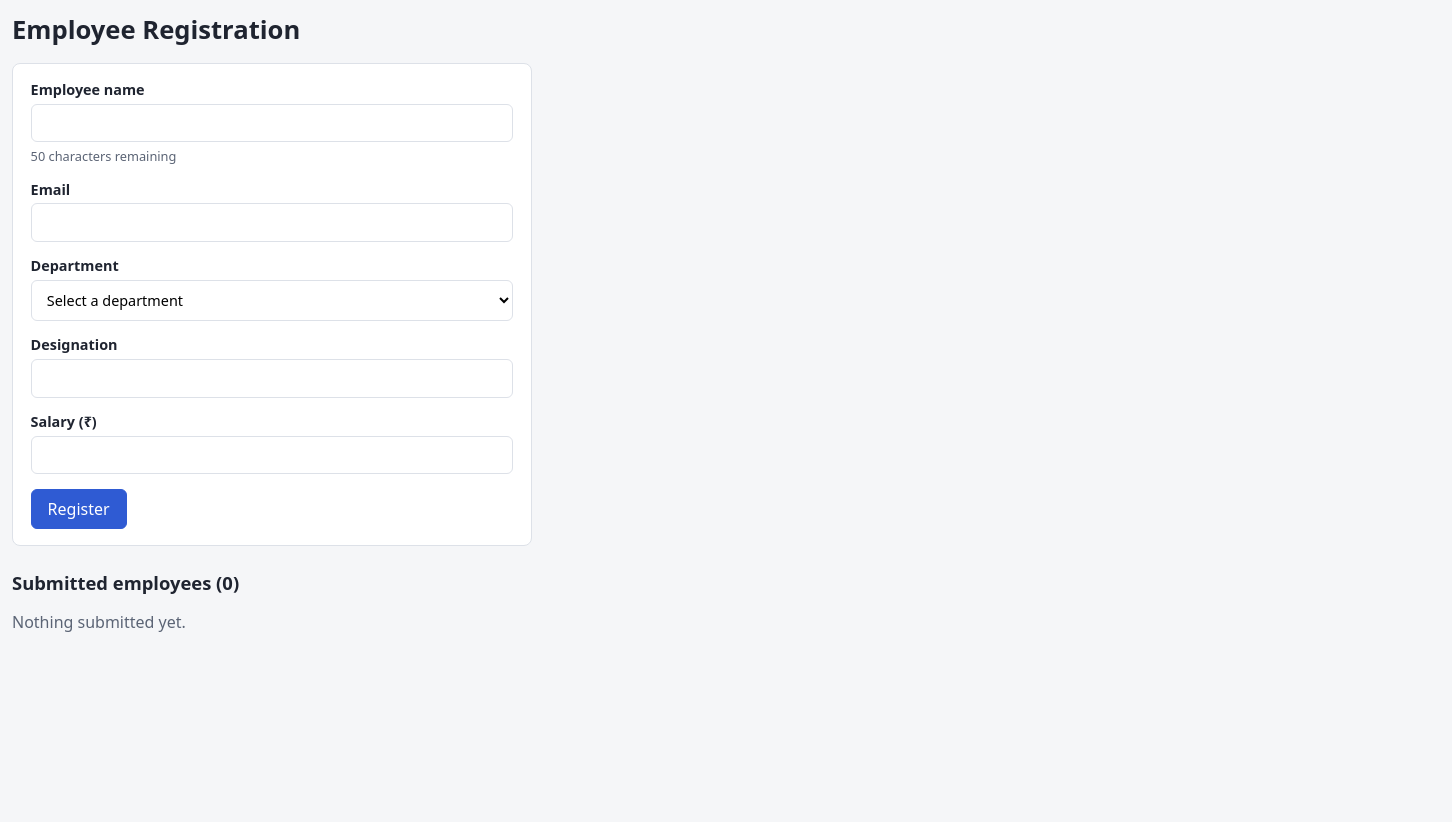
Test case: Employee Registration form › submits without reloading, shows the data below the form and clears the form
Type "Asha Verma" into the field labelled "Employee name" at (272, 123), box [31,104,513,142]
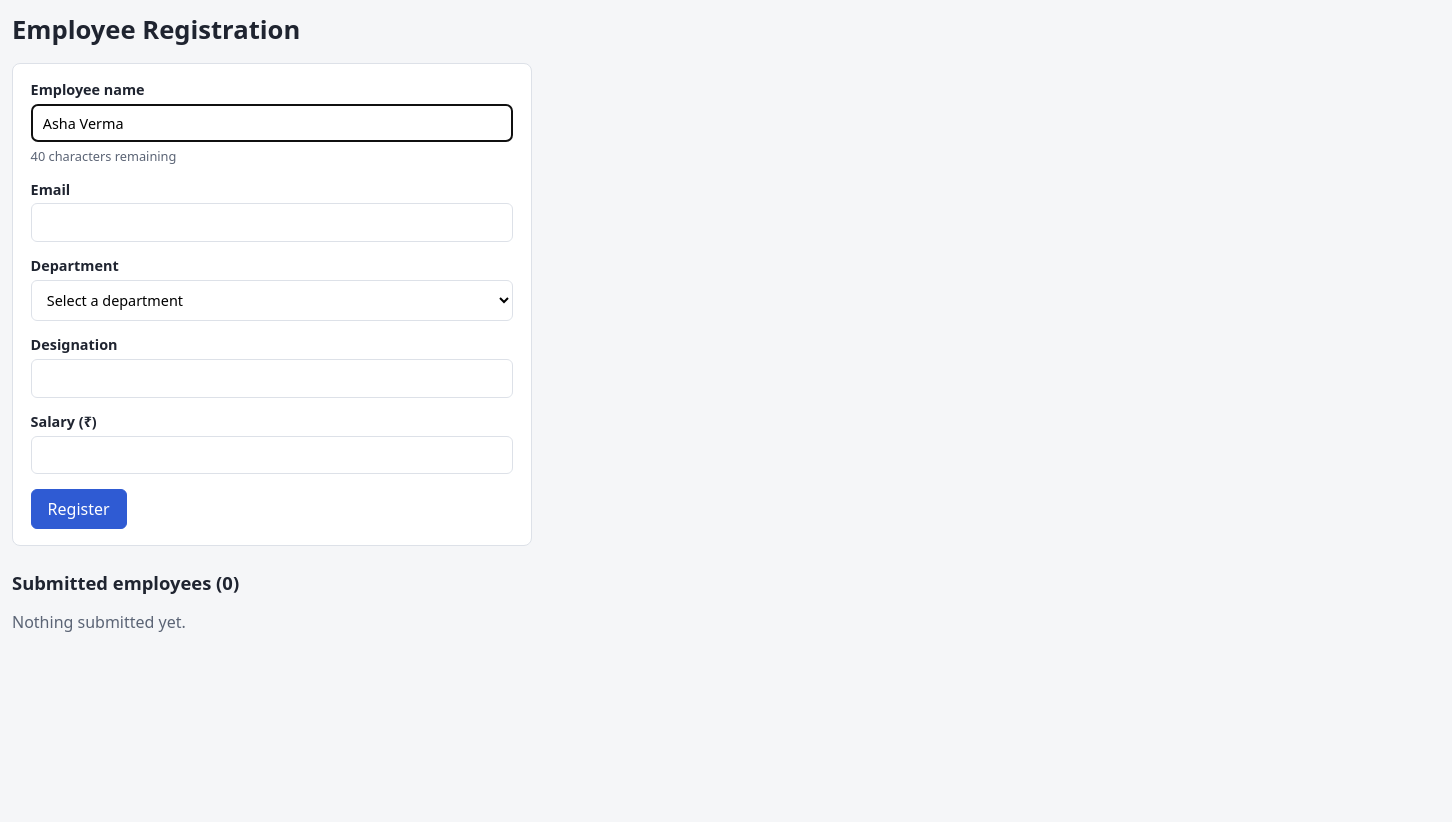
Type "asha@company.com" into the field labelled "Email" at (272, 223), box [31,203,513,242]
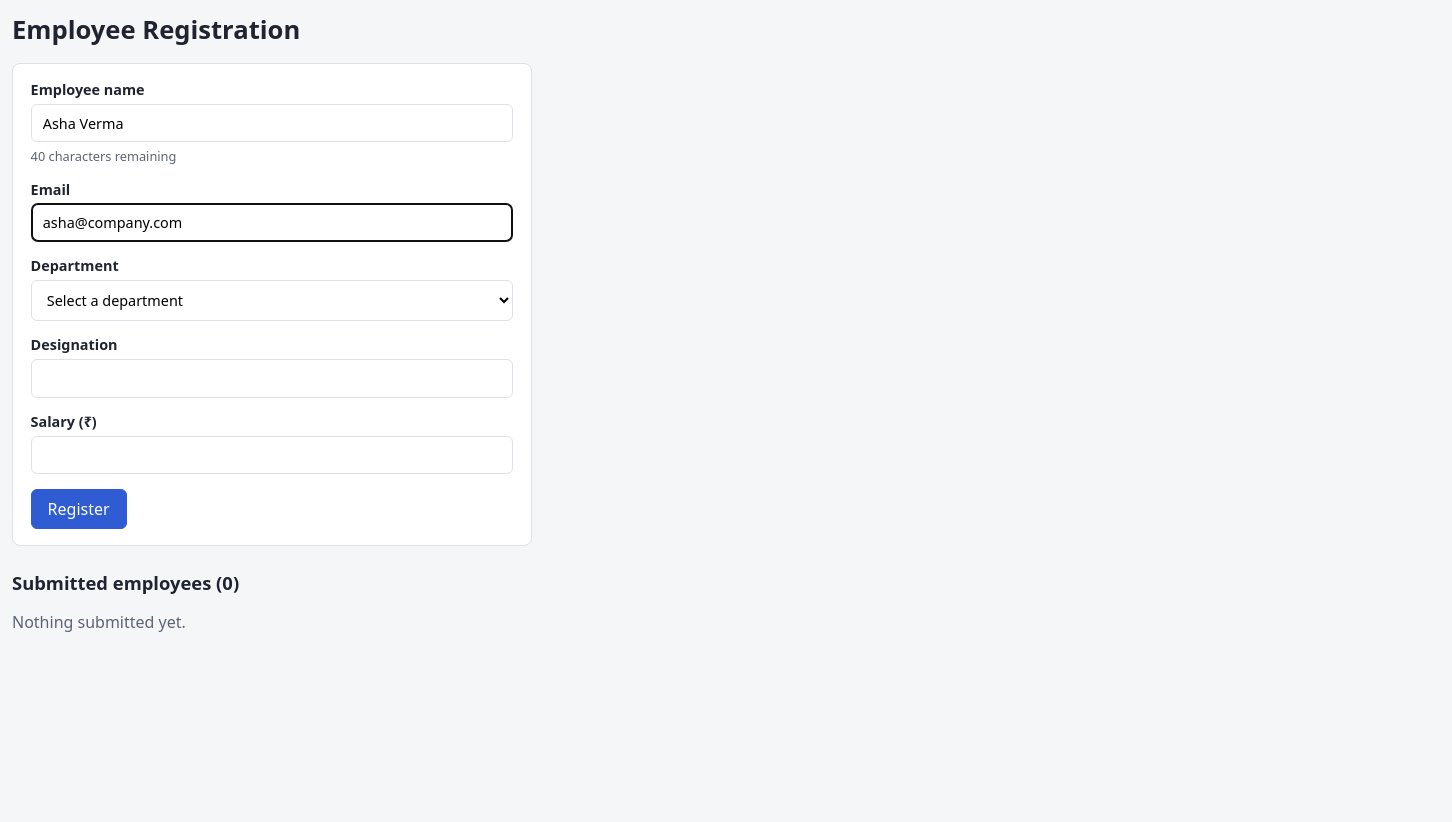
Select "Engineering" in the dropdown labelled "Department" at (272, 300), box [31,280,513,321]
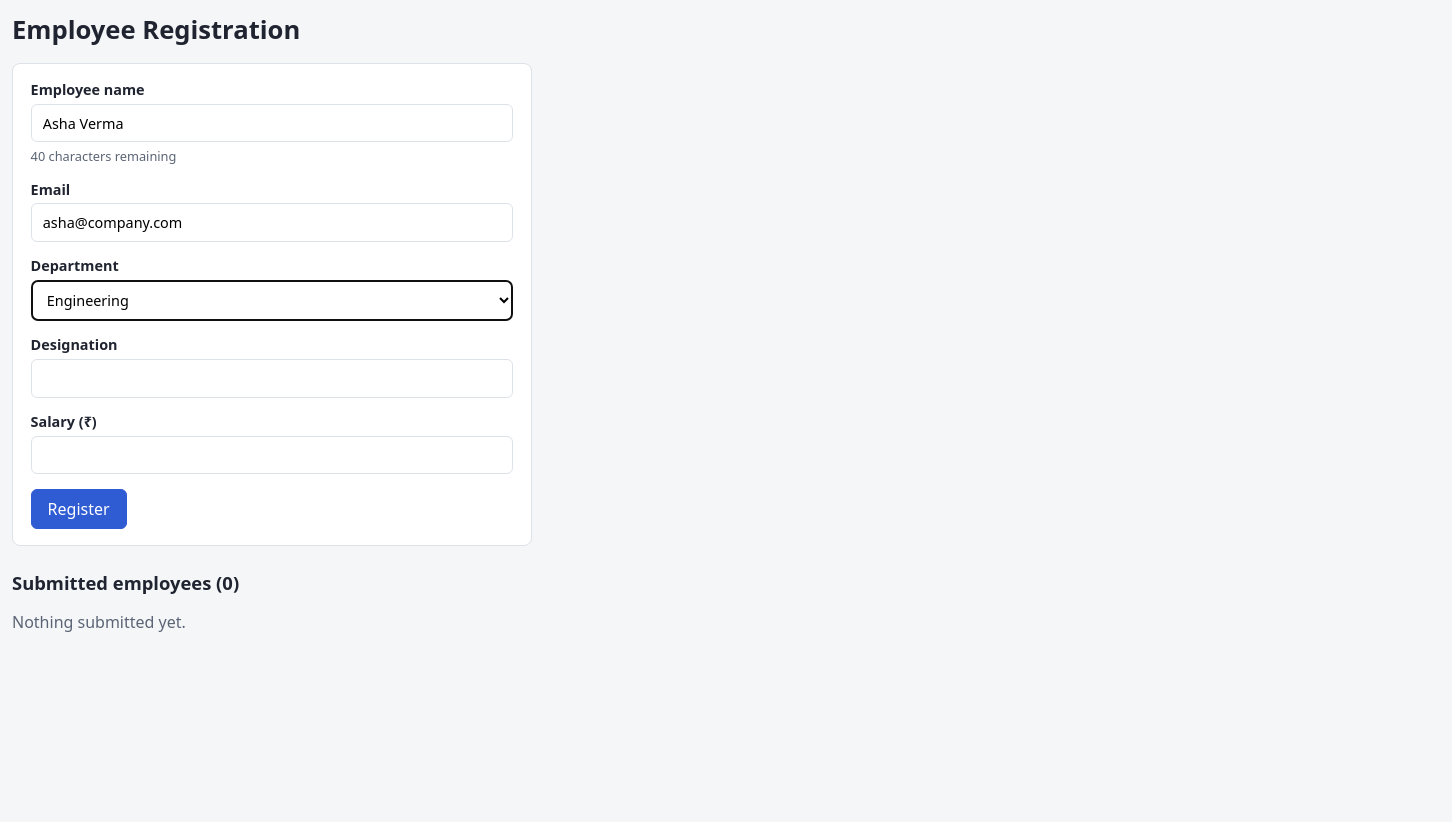
Type "Engineer" into the field labelled "Designation" at (272, 378), box [31,359,513,398]
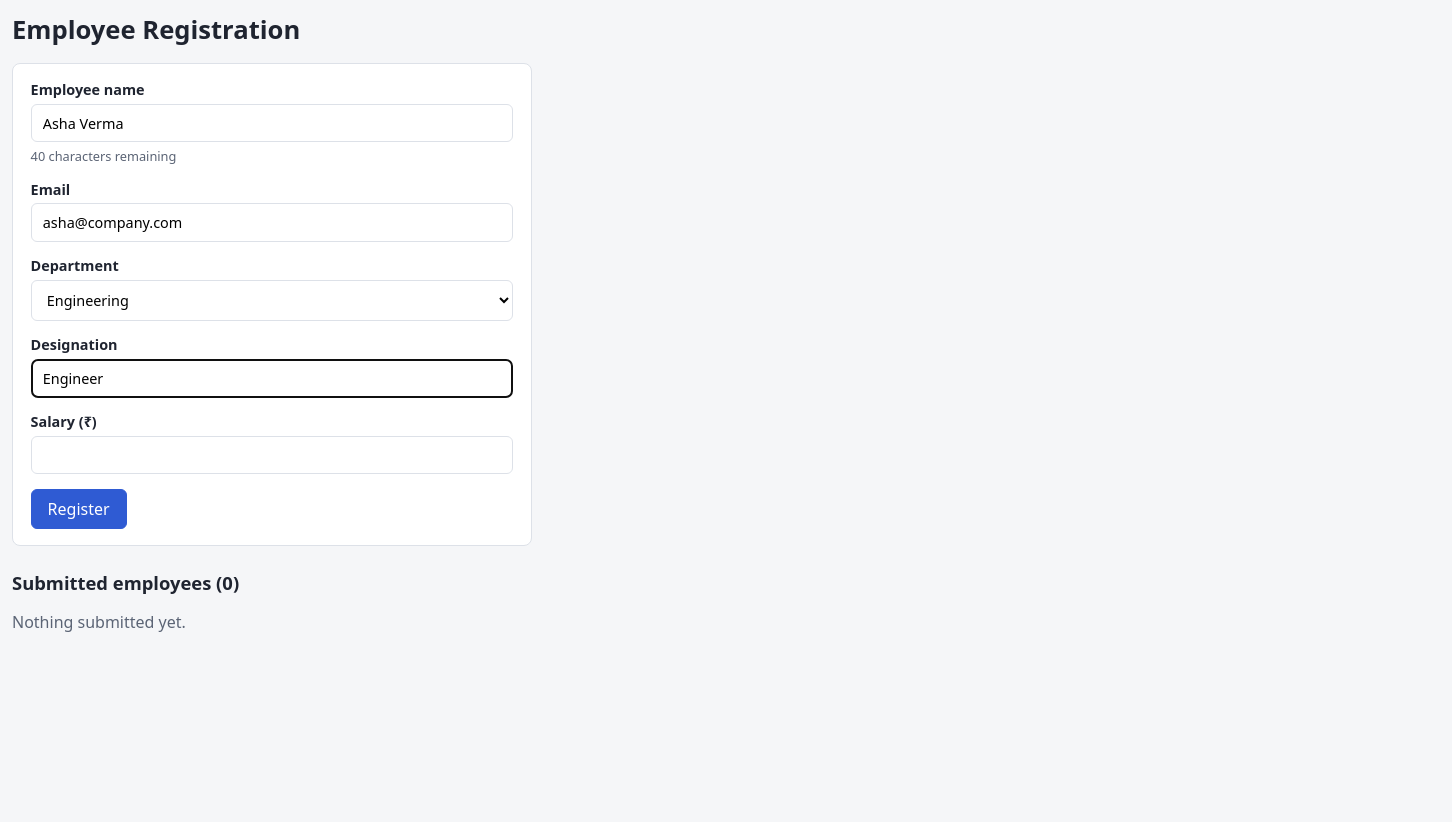
Type "95000" into the number field labelled "Salary (₹)" at (272, 455), box [31,436,513,474]
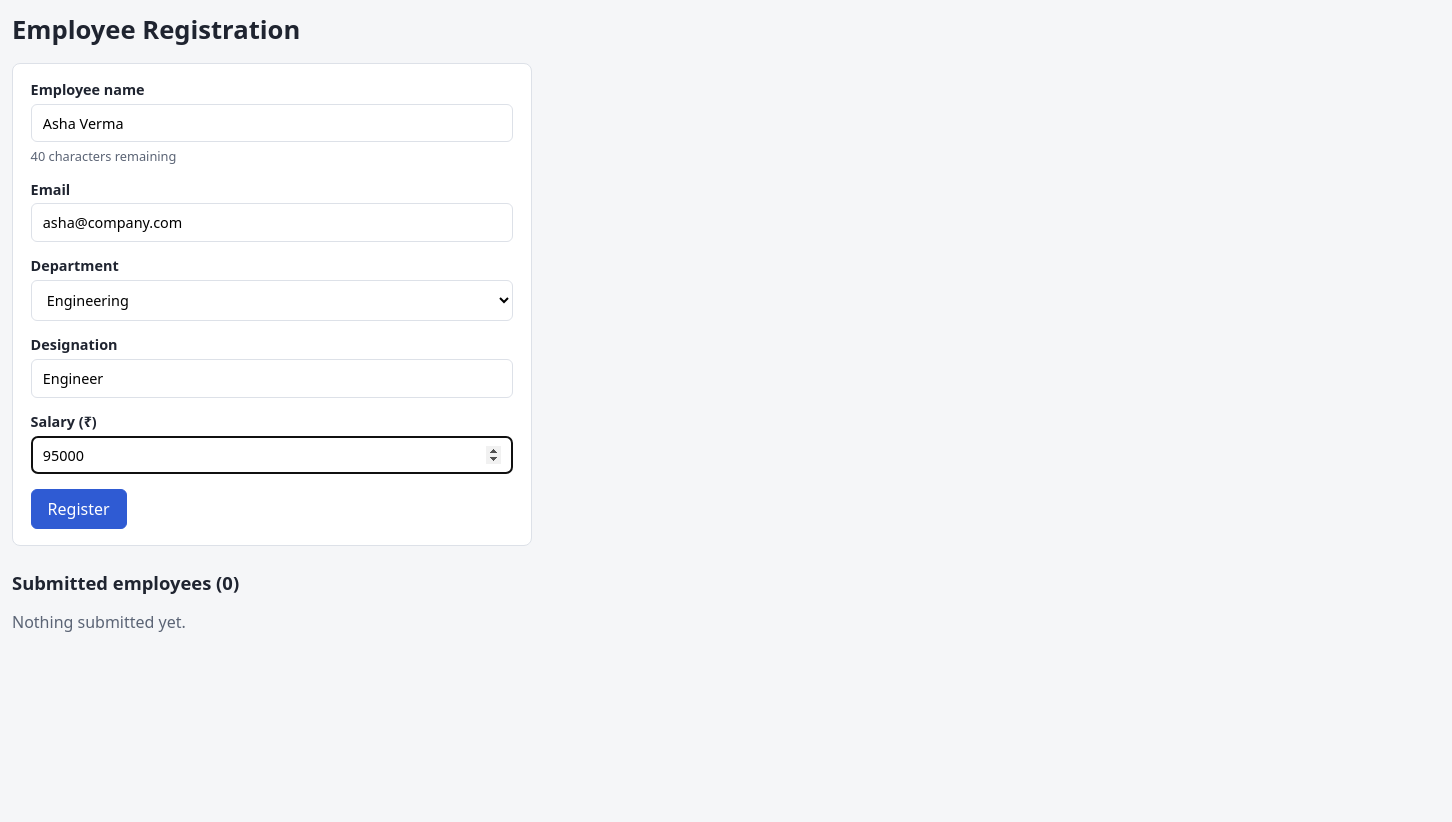
Click the button "Register" at (79, 509), box [31,489,127,529]
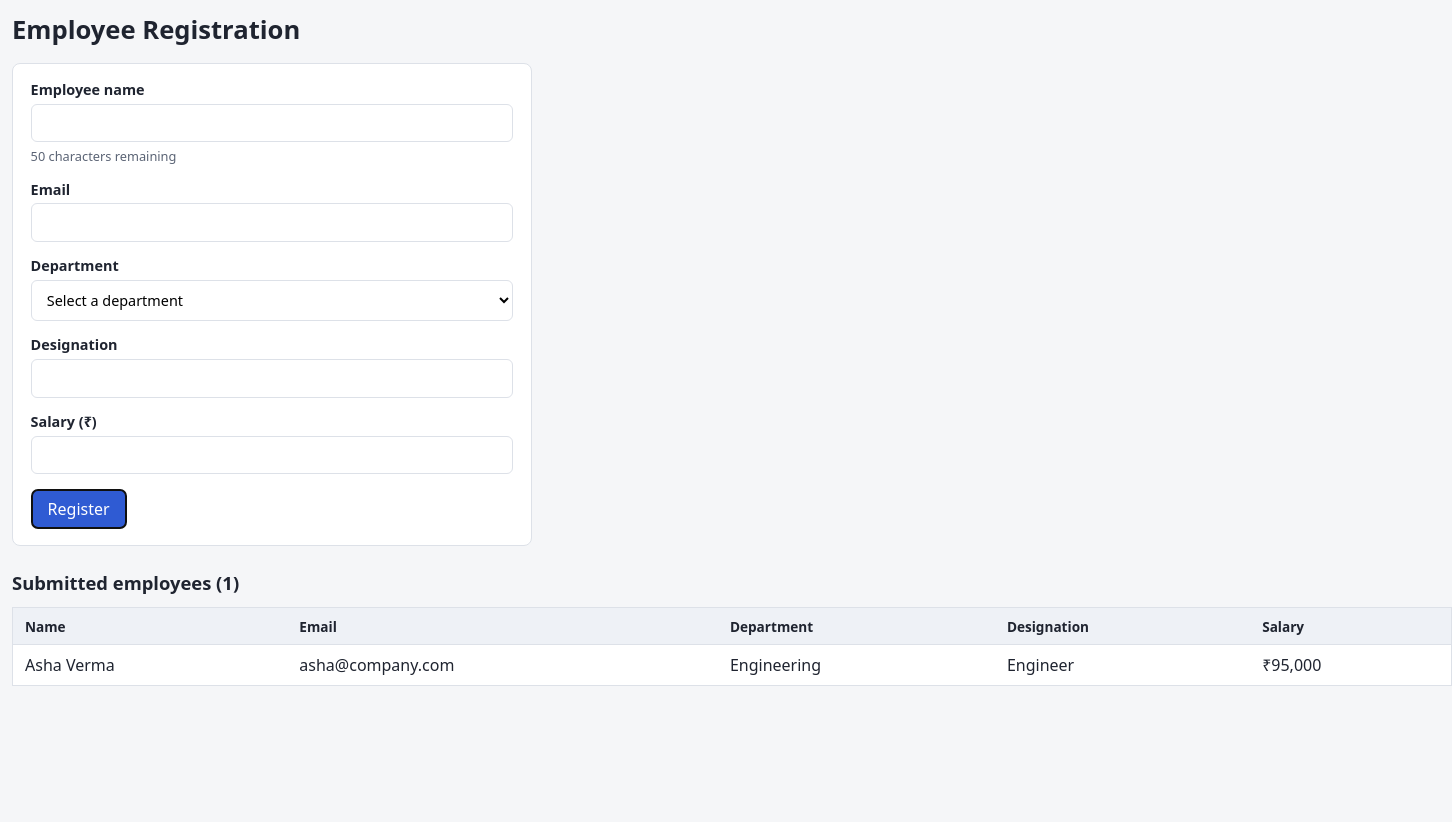
Check: the text "Asha Verma" is shown, box [12,645,287,685]
Check: the text "₹95,000" is shown, box [1250,645,1451,685]
Check: the field labelled "Employee name" is empty, box [31,104,513,142]
